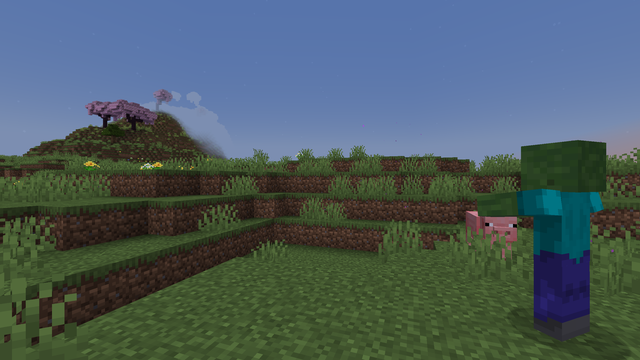cochons: (460, 209, 507, 260)
zombies: (517, 144, 619, 353)
